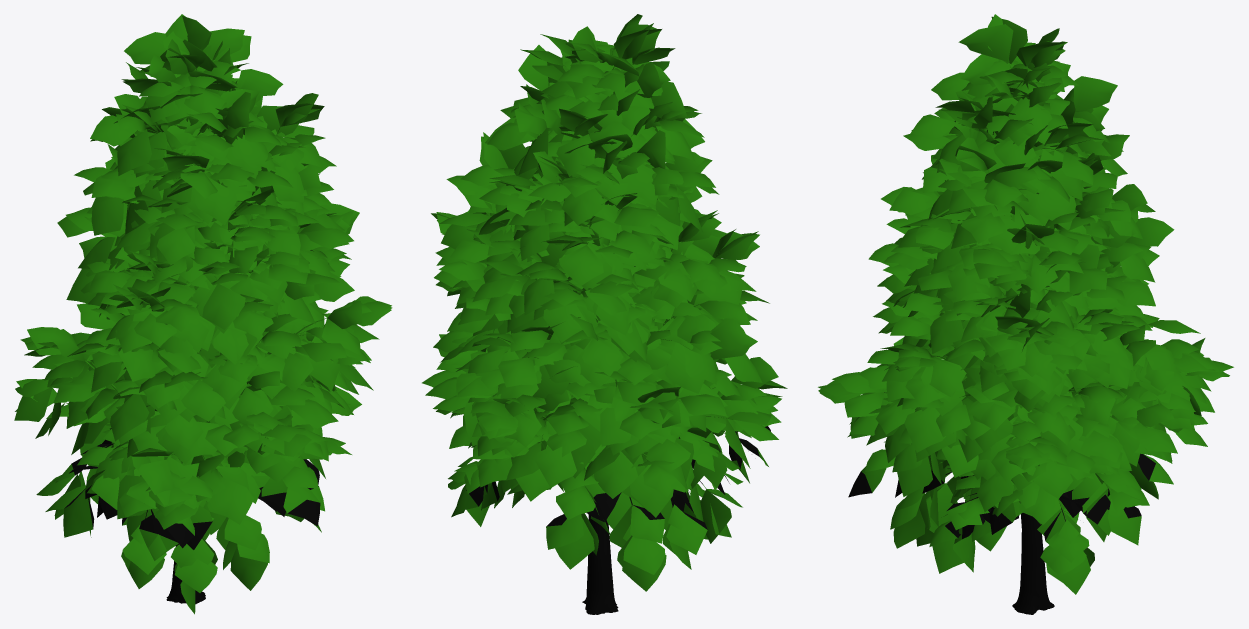
Rendered from Tree.fbx.
3 views of the same model, side by side, from view 1: azimuth 30°, elevation 25°; view 2: azimuth 150°, elevation 25°; view 3: azimuth 270°, elevation 25° (orthographic).
Parts seen in each view (by area): view 1: Tree_01:Tree01; view 2: Tree_01:Tree01; view 3: Tree_01:Tree01.
Boxes of the visible parts, left/top/right/bottom form: Tree_01:Tree01: left=14, top=14, right=392, bottom=614; Tree_01:Tree01: left=422, top=14, right=787, bottom=614; Tree_01:Tree01: left=818, top=14, right=1233, bottom=614.
Size of the model in its own units: 19.17 by 34.29 by 22.54.
